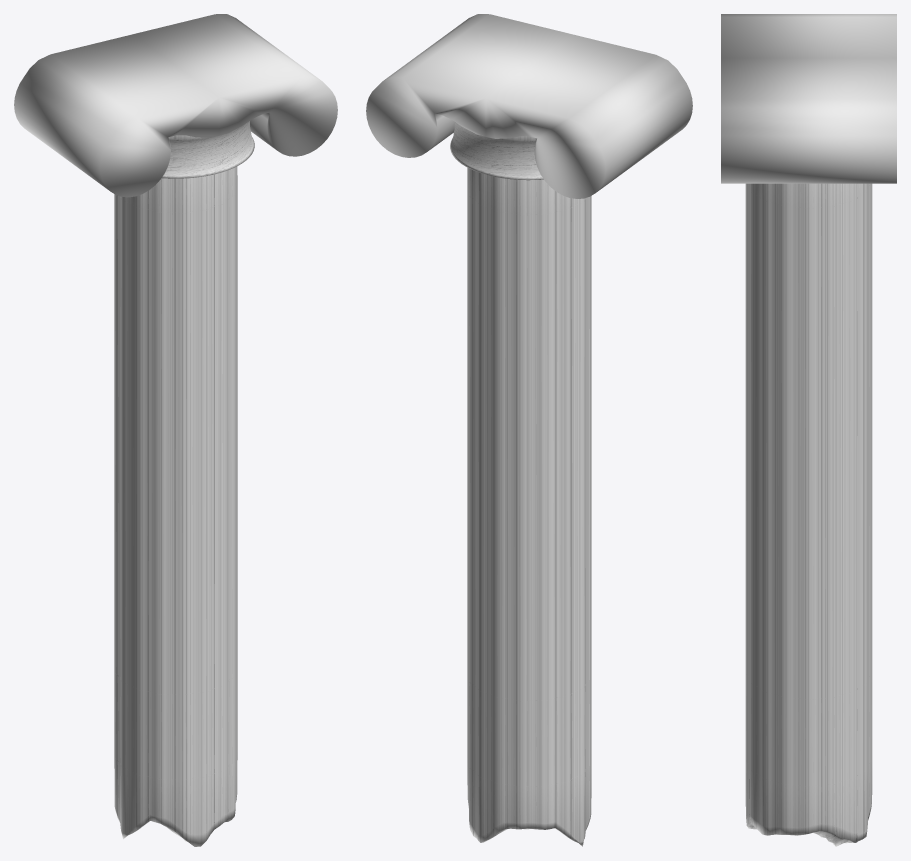
File: pillarPiece.fbx
The picture shows the model from 3 angles, left to right: view 1: azimuth 30°, elevation 25°; view 2: azimuth 150°, elevation 25°; view 3: azimuth 270°, elevation 25°; orthographic projection.
Parts seen in each view (by area): view 1: Player_Mesh; view 2: Player_Mesh; view 3: Player_Mesh.
Part boxes in pixels (x1=…): Player_Mesh: x1=14, y1=14, x2=337, y2=846; Player_Mesh: x1=366, y1=14, x2=692, y2=846; Player_Mesh: x1=721, y1=14, x2=896, y2=846.
Size of the model in its own units: 1256 by 3843 by 790.
